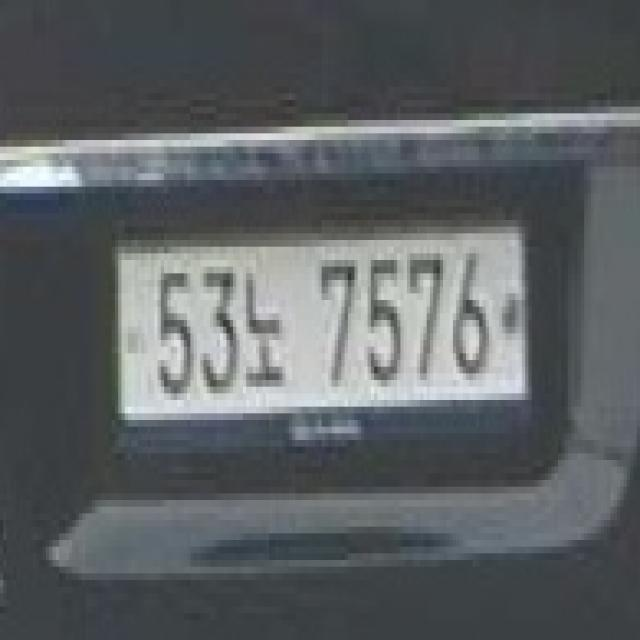3: (197, 260, 246, 400)
5: (148, 267, 197, 380), (368, 253, 400, 380)
6: (443, 253, 496, 387)
7: (404, 240, 453, 387), (315, 260, 361, 387)
license_plate: (108, 227, 535, 433)
no: (240, 253, 292, 380)
